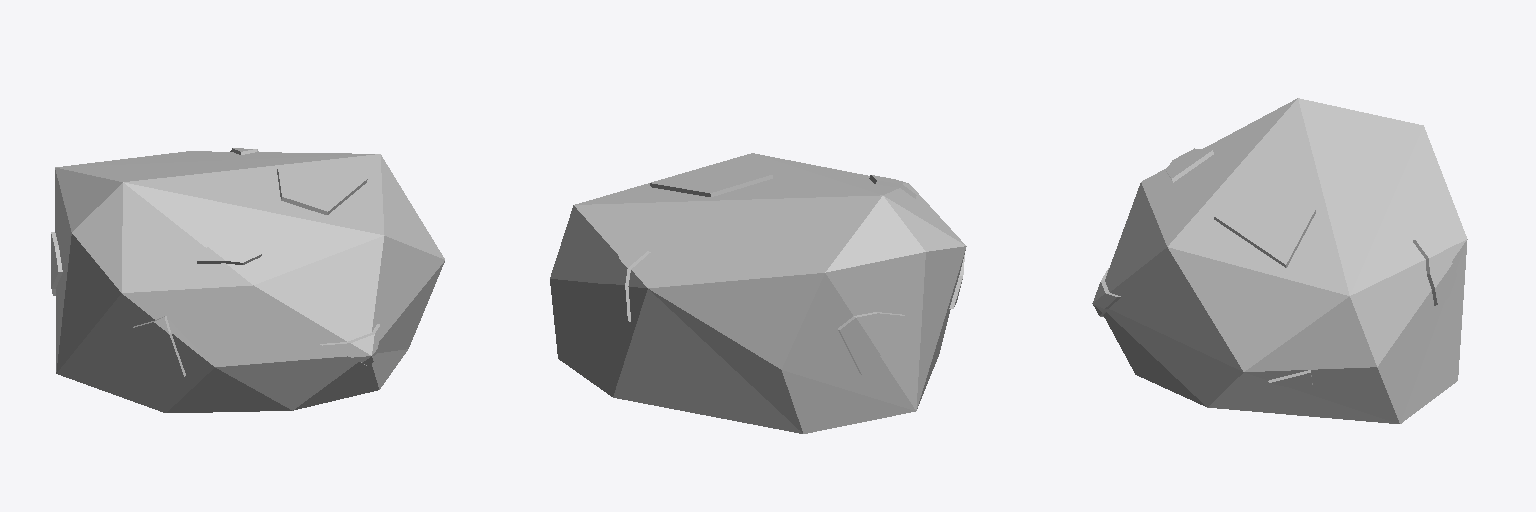
Rendered from IronOre.obj.
3 views of the same model, side by side, from view 1: azimuth 30°, elevation 25°; view 2: azimuth 150°, elevation 25°; view 3: azimuth 270°, elevation 25° (orthographic).
Visible parts, largest first — view 1: Icosphere; view 2: Icosphere; view 3: Icosphere.
Boxes of the visible parts, <box> form: Icosphere: <box>51,148,444,412</box>; Icosphere: <box>550,153,966,433</box>; Icosphere: <box>1092,98,1467,423</box>.
Size of the model in its own units: 0.3924 by 0.2098 by 0.3662.